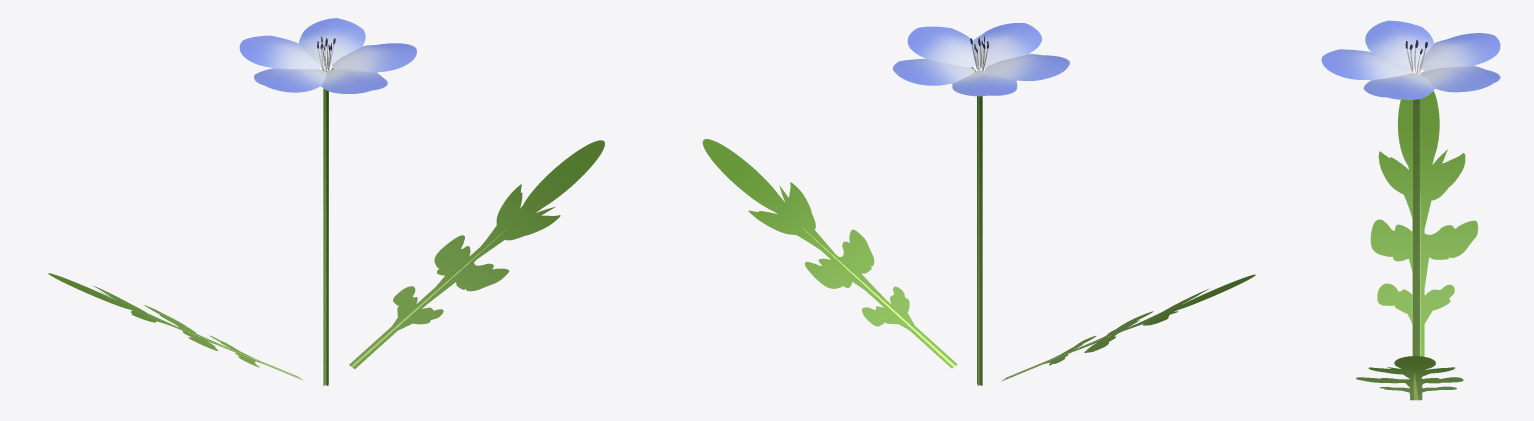
File: low_nemo2.fbx
3 views of the same model, side by side, from view 1: azimuth 30°, elevation 25°; view 2: azimuth 150°, elevation 25°; view 3: azimuth 270°, elevation 25° (orthographic). The views are drawn at different scales.
Parts seen in each view (by area): view 1: low_nemo; view 2: low_nemo; view 3: low_nemo.
Part boxes in pixels (left/top/right/bottom): low_nemo: left=48, top=18, right=604, bottom=385; low_nemo: left=702, top=23, right=1255, bottom=385; low_nemo: left=1321, top=20, right=1500, bottom=400.
Size of the model in its own units: 72.74 by 45.85 by 21.67.
